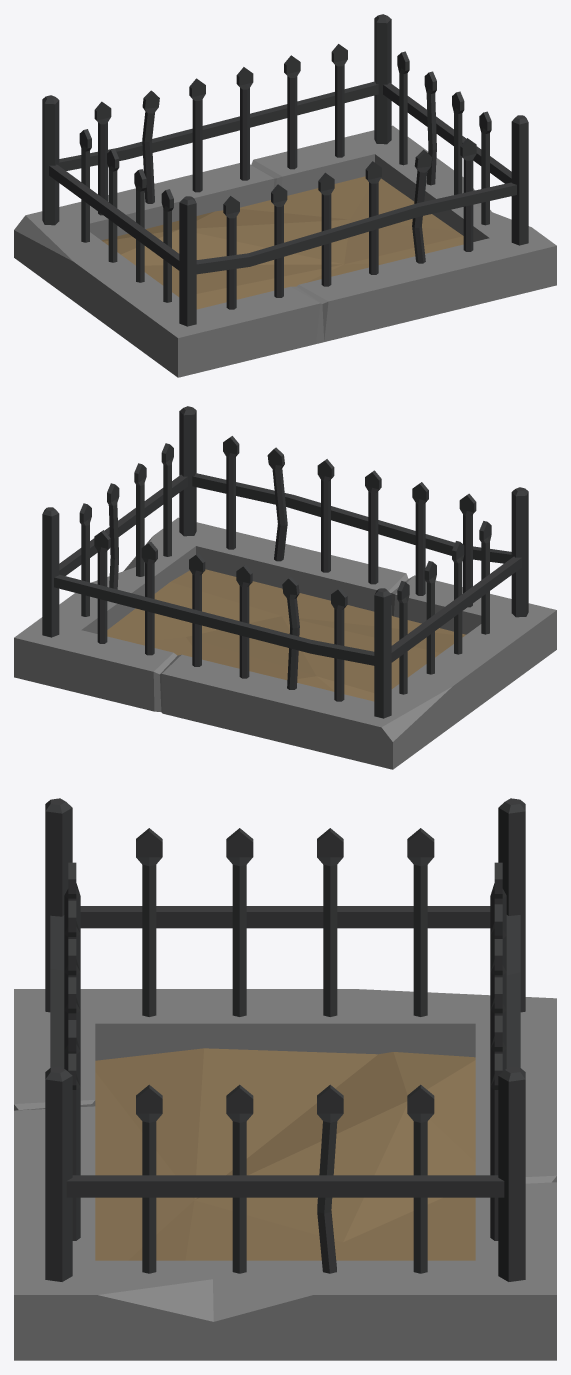
Rendered from SM_Envr_Road_Suburb_Sidewalk_Plant_Bed.fbx.
3 views of the same model, one above another, from view 1: azimuth 30°, elevation 25°; view 2: azimuth 150°, elevation 25°; view 3: azimuth 270°, elevation 25° (orthographic). The views are drawn at different scales.
Visible parts, largest first — view 1: SM_Bldg_Suburb_Sidewalk_Plant_Bed, SM_Bldg_Suburb_Sidewalk_Plant_Bed_Fence; view 2: SM_Bldg_Suburb_Sidewalk_Plant_Bed, SM_Bldg_Suburb_Sidewalk_Plant_Bed_Fence; view 3: SM_Bldg_Suburb_Sidewalk_Plant_Bed, SM_Bldg_Suburb_Sidewalk_Plant_Bed_Fence.
Boxes of the visible parts, x1,y1,x2,y2 form: SM_Bldg_Suburb_Sidewalk_Plant_Bed: (14, 125, 556, 377); SM_Bldg_Suburb_Sidewalk_Plant_Bed_Fence: (42, 14, 528, 326); SM_Bldg_Suburb_Sidewalk_Plant_Bed: (14, 517, 556, 769); SM_Bldg_Suburb_Sidewalk_Plant_Bed_Fence: (42, 406, 528, 718); SM_Bldg_Suburb_Sidewalk_Plant_Bed: (14, 989, 556, 1360); SM_Bldg_Suburb_Sidewalk_Plant_Bed_Fence: (45, 798, 525, 1281).
Size of the model in its own units: 134 by 55.69 by 101.
